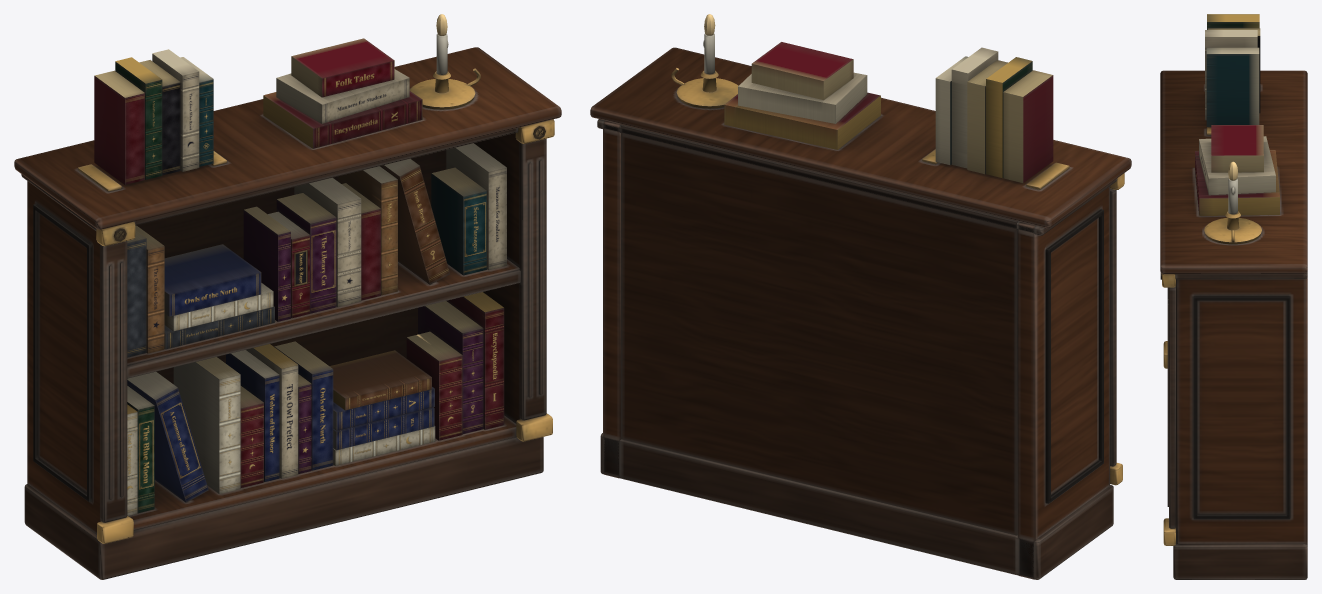
The model's file is LibShelfHalf.fbx.
3 renders of one model, left to right at view 1: azimuth 30°, elevation 25°; view 2: azimuth 150°, elevation 25°; view 3: azimuth 270°, elevation 25°, orthographic. The views are drawn at different scales.
Parts seen in each view (by area): view 1: LibShelfHalf_Main; view 2: LibShelfHalf_Main; view 3: LibShelfHalf_Main.
Part boxes in pixels (x1,y1,x2,y2): LibShelfHalf_Main: (14,33,561,579); LibShelfHalf_Main: (590,33,1131,579); LibShelfHalf_Main: (1160,14,1307,579).
Bounding box in the file's own units: 530 × 510 × 168.
